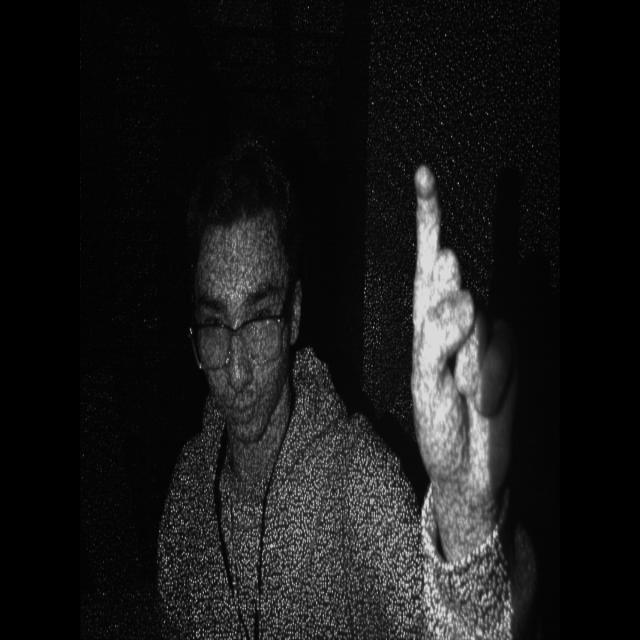X: (407, 145, 520, 552)
